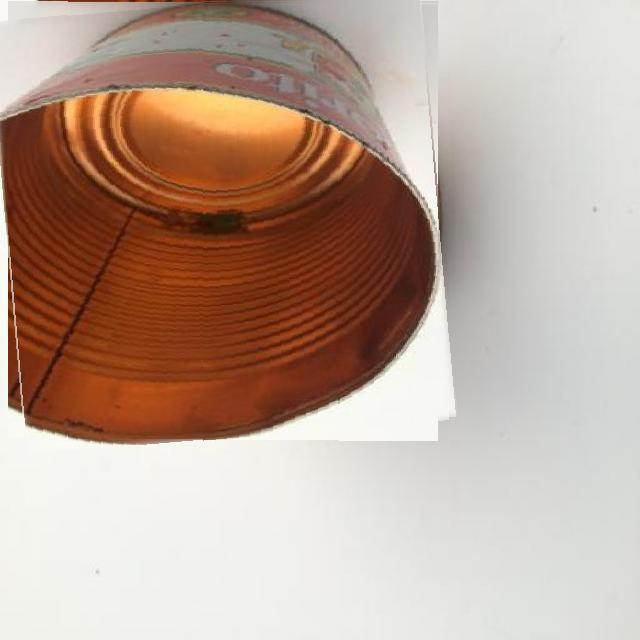recyclable: (0, 0, 449, 445)
